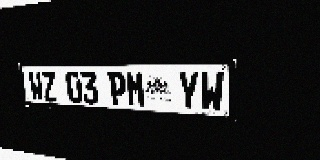0: (65, 71, 83, 104)
3: (80, 71, 99, 105)
M: (126, 71, 146, 107)
P: (108, 71, 127, 106)
W: (200, 71, 224, 112), (28, 71, 45, 101)
Y: (177, 71, 200, 111)
Z: (41, 71, 58, 102)
